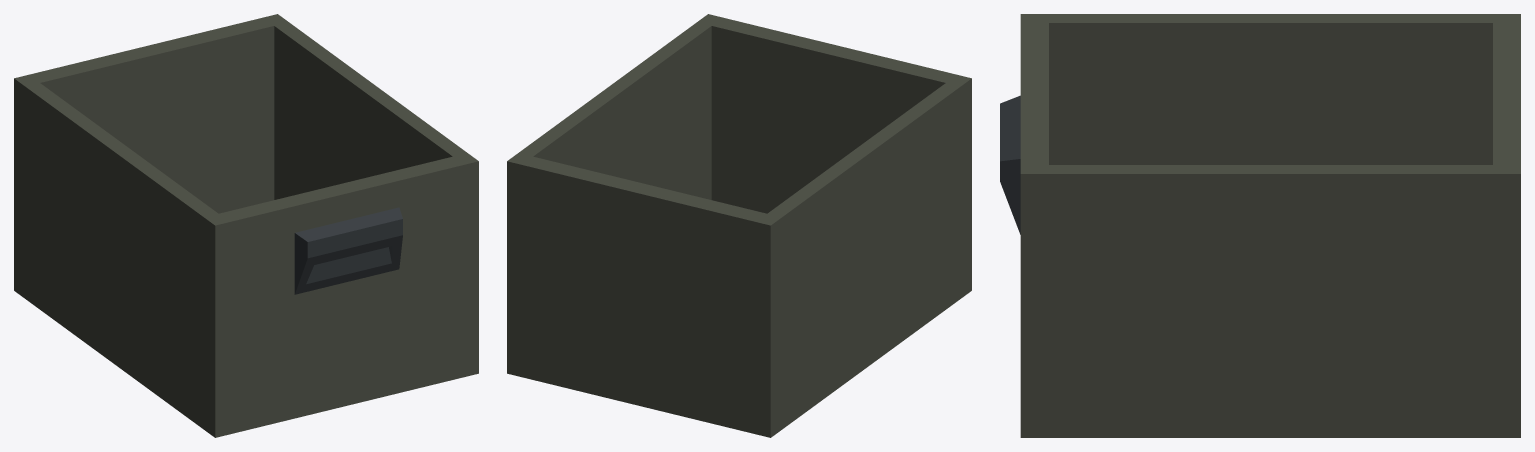
Rendered from SM_Prop_Lockers_Drawer_05.glb.
3 renders of one model, left to right at view 1: azimuth 30°, elevation 25°; view 2: azimuth 150°, elevation 25°; view 3: azimuth 270°, elevation 25°, orthographic. The views are drawn at different scales.
Parts seen in each view (by area): view 1: SM_Prop_Lockers_Drawer_05; view 2: SM_Prop_Lockers_Drawer_05; view 3: SM_Prop_Lockers_Drawer_05.
Boxes of the visible parts, box(x1,y1,x2,y2) form: SM_Prop_Lockers_Drawer_05: box(14, 14, 478, 437); SM_Prop_Lockers_Drawer_05: box(507, 14, 971, 437); SM_Prop_Lockers_Drawer_05: box(1000, 14, 1520, 437).
Bounding box in the file's own units: 0.3937 × 0.3029 × 0.5417.
1 material, 1 textured.
